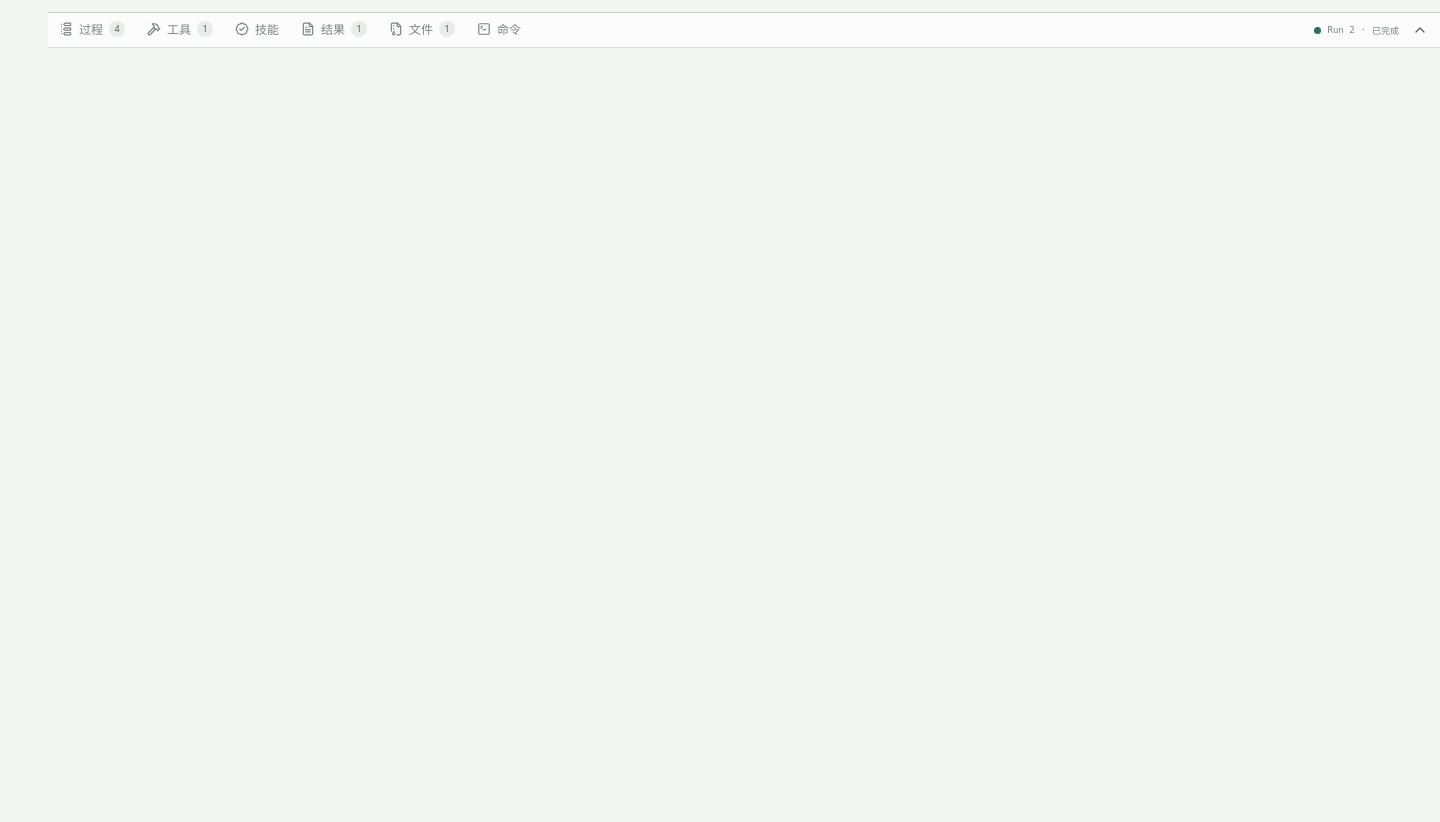
Test: RunDrawer › renders a strict candidate envelope with policy, provenance, and references
The width and height of the screenshot is (1440, 822).
Click the tab "结果 1": coordinates (334, 30) [290,13,378,47]
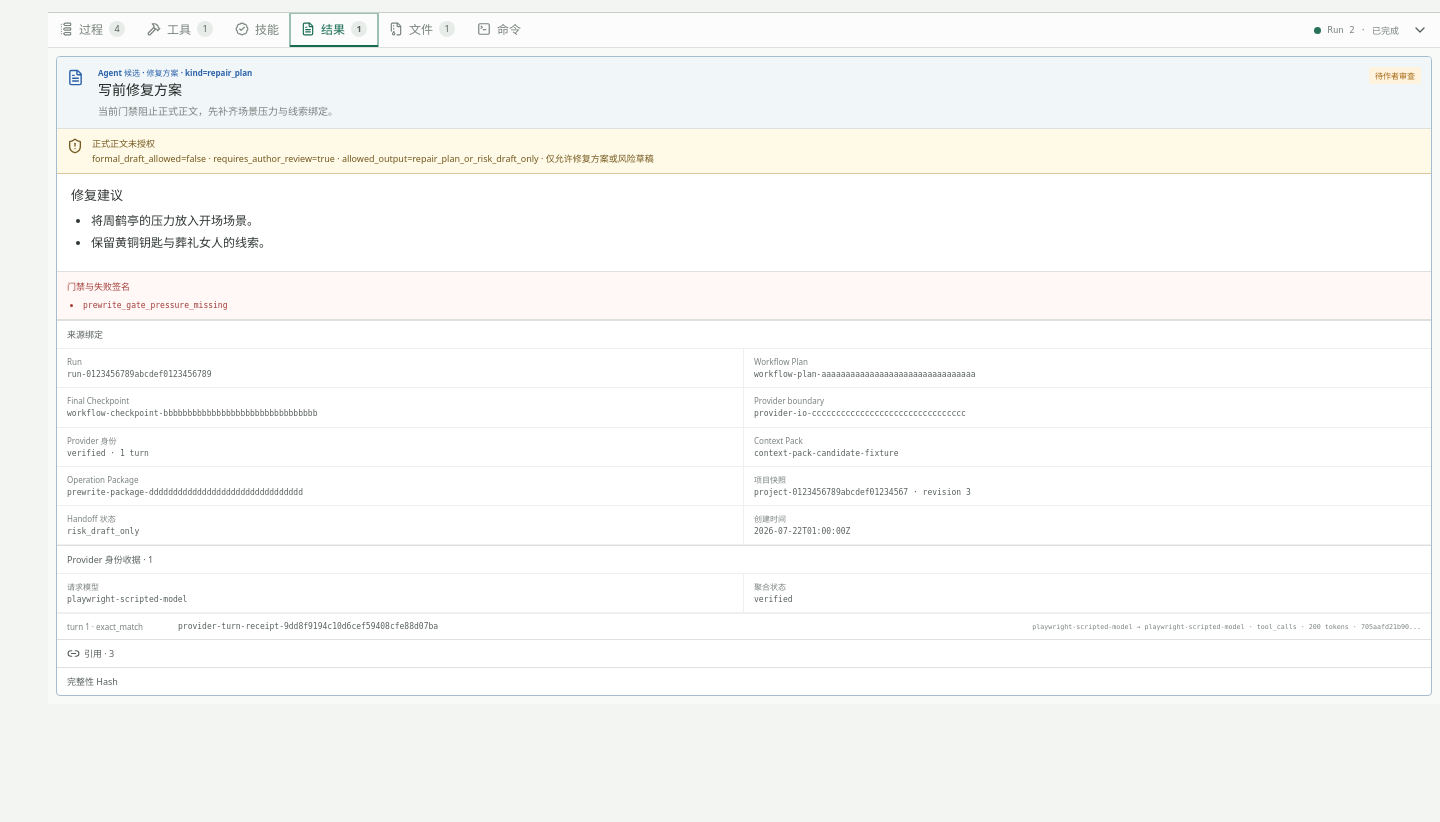
Now the heading "写前修复方案" is shown, box [98,80,182,99]
Now the text "Agent 候选 · 修复方案 · kind=repair_plan" is shown, box [98,67,252,78]
Now the text "正式正文未授权" is shown, box [92,137,155,150]
